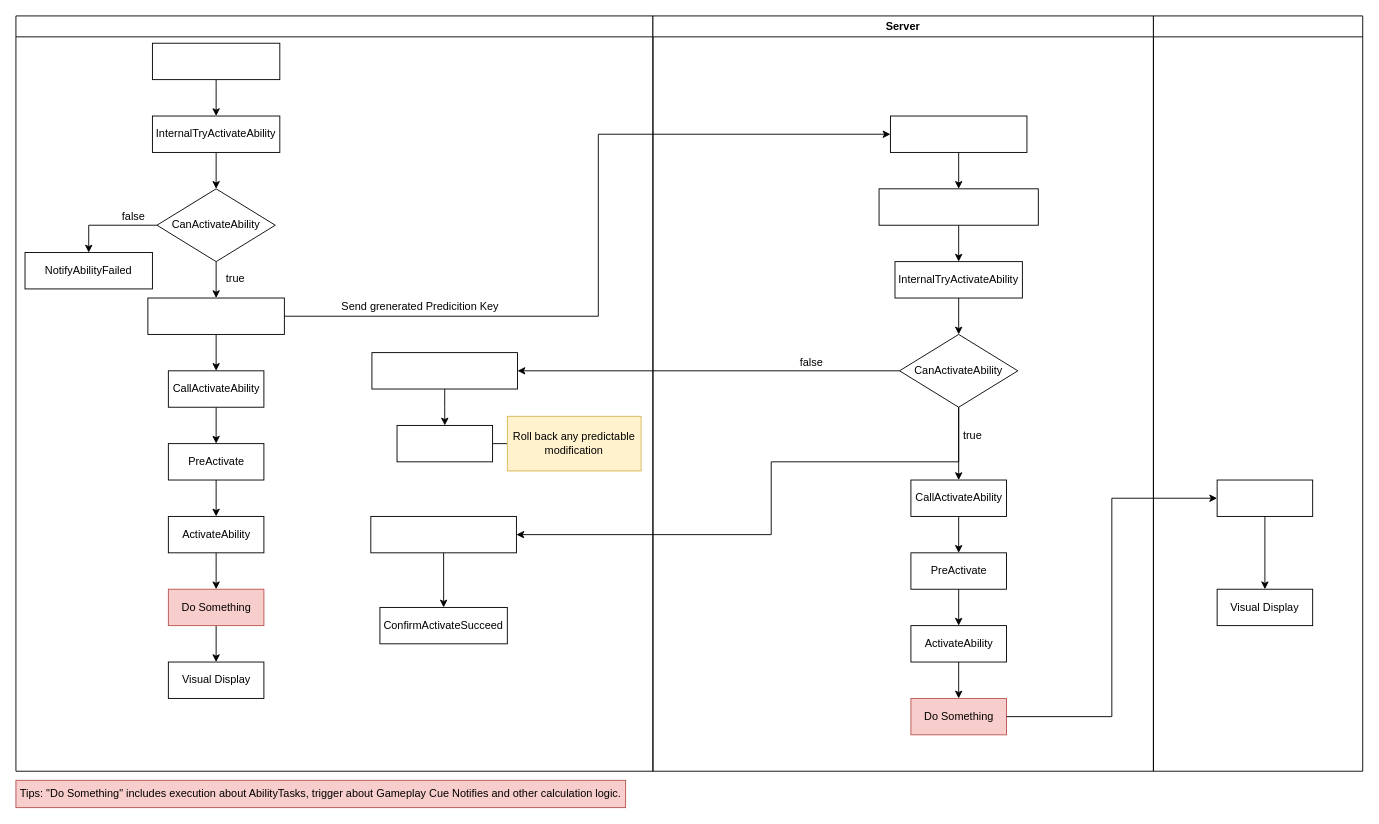
Image size: 1379x824. Some labels were removed from this diagram. Here are the shapes that lost their labels. From the top down, the box of each, then its label:
(152, 42, 280, 80): TryActivateAbility
(890, 115, 1027, 152): ServerTryActivateAbility
(878, 188, 1038, 225): InternalServerTryActivateAbility
(147, 297, 284, 334): CallServerTryActivateAbility
(371, 352, 518, 389): ClientActivateAbilityFailed
(15, 15, 653, 771): Owning Client
(1153, 15, 1363, 771): Remote Client
(396, 425, 493, 462): EndAbility
(1216, 479, 1313, 516): Data Replicated
(370, 516, 516, 553): ClientActivateAbilitySucceed
